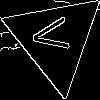V: (30, 14, 79, 55)
